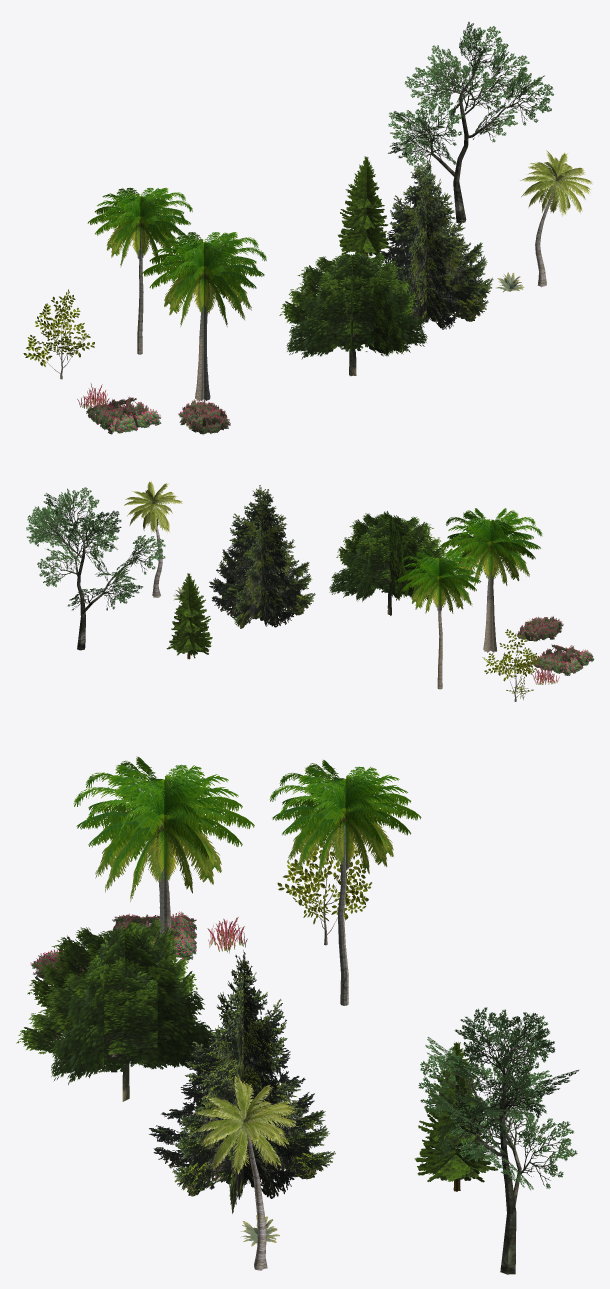
Rendered from Vegetations.fbx.
3 views of the same model, one above another, from view 1: azimuth 30°, elevation 25°; view 2: azimuth 150°, elevation 25°; view 3: azimuth 270°, elevation 25° (orthographic). The views are drawn at different scales.
Parts seen in each view (by area): view 1: tree2_a, m_a, pine1_a, PalmTree_02_a, PalmTree_01_a, t1_LOD0_a, Palm_1_v_2_a, Bark E_a, Plant1_a, Plane009_a; view 2: pine1_a, m_a, tree2_a, PalmTree_02_a, PalmTree_01_a, t1_LOD0_a, Palm_1_v_2_a, Bark E_a, Plant1_a, Plane009_a; view 3: tree2_a, pine1_a, m_a, PalmTree_02_a, PalmTree_01_a, Palm_1_v_2_a, t1_LOD0_a, Bark E_a, Plant1_a, Grass C_a.
Part boxes in pixels (x1,y1,x2,y2): tree2_a: (279, 252, 427, 376); m_a: (388, 22, 553, 223); pine1_a: (374, 158, 493, 331); PalmTree_02_a: (141, 232, 266, 400); PalmTree_01_a: (87, 187, 192, 354); t1_LOD0_a: (338, 156, 391, 258); Palm_1_v_2_a: (520, 150, 592, 287); Bark E_a: (23, 289, 94, 379); Plant1_a: (86, 396, 161, 434); Plane009_a: (178, 399, 230, 434); pine1_a: (209, 485, 315, 628); m_a: (26, 487, 165, 650); tree2_a: (329, 511, 447, 615); PalmTree_02_a: (439, 508, 542, 652); PalmTree_01_a: (396, 548, 482, 689); t1_LOD0_a: (166, 573, 212, 659); Palm_1_v_2_a: (124, 481, 182, 597); Bark E_a: (482, 629, 540, 701); Plant1_a: (532, 644, 594, 675); Plane009_a: (516, 616, 563, 641); tree2_a: (16, 918, 221, 1101); pine1_a: (149, 950, 335, 1213); m_a: (418, 1007, 578, 1274); PalmTree_02_a: (73, 756, 254, 958); PalmTree_01_a: (269, 760, 421, 1005); Palm_1_v_2_a: (191, 1074, 297, 1270); t1_LOD0_a: (414, 1042, 498, 1191); Bark E_a: (277, 831, 371, 945); Plant1_a: (112, 911, 196, 960); Grass C_a: (207, 917, 247, 953).
Bounding box in the file's own units: 54.21 × 18.87 × 32.73.
